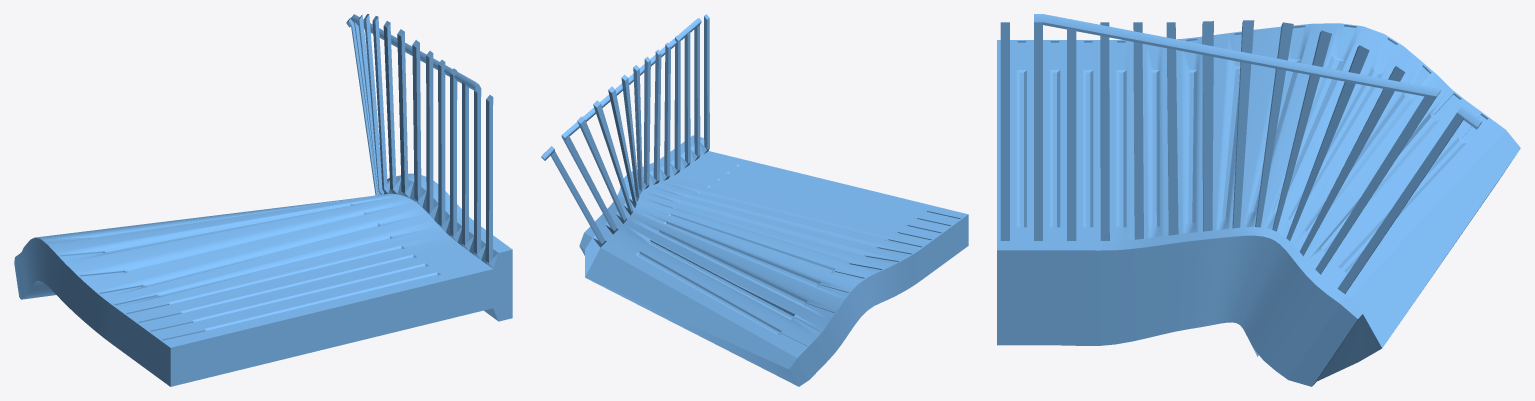
The model's file is bridge3.fbx.
3 views of the same model, side by side, from view 1: azimuth 30°, elevation 25°; view 2: azimuth 150°, elevation 25°; view 3: azimuth 270°, elevation 25° (orthographic). The views are drawn at different scales.
Visible parts, largest first — view 1: bridge032; view 2: bridge032; view 3: bridge032.
Boxes of the visible parts, box(x1,y1,x2,y2) form: bridge032: box(14, 14, 512, 386); bridge032: box(541, 14, 968, 386); bridge032: box(997, 14, 1520, 386).
Size of the model in its own units: 75.76 by 53.24 by 69.1.
